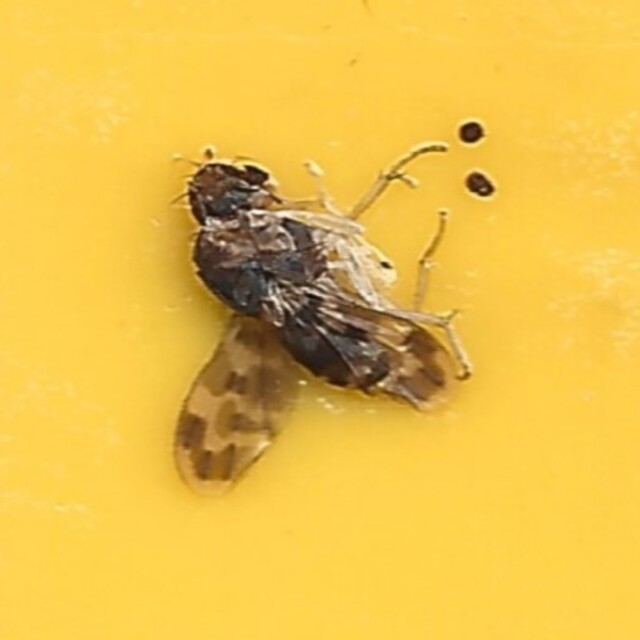Brachycera: (162, 149, 478, 491)
